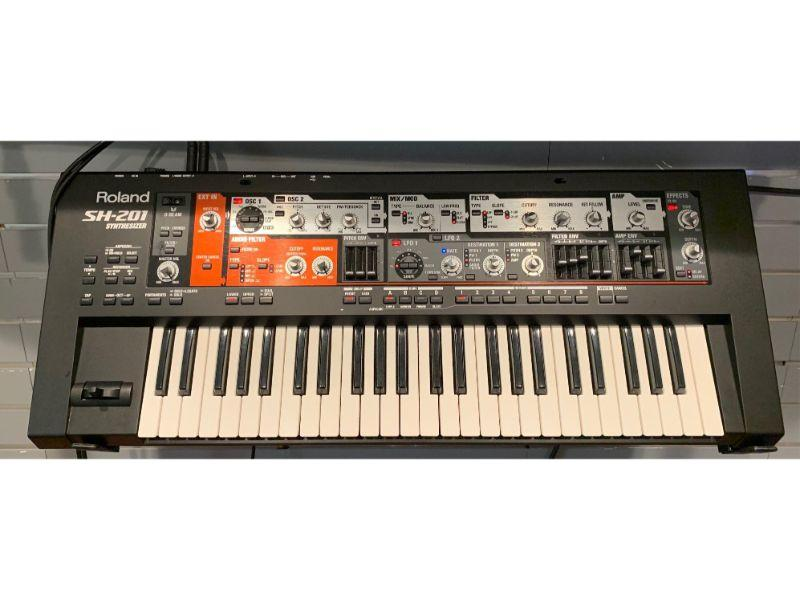synthesizer: (31, 150, 785, 440)
